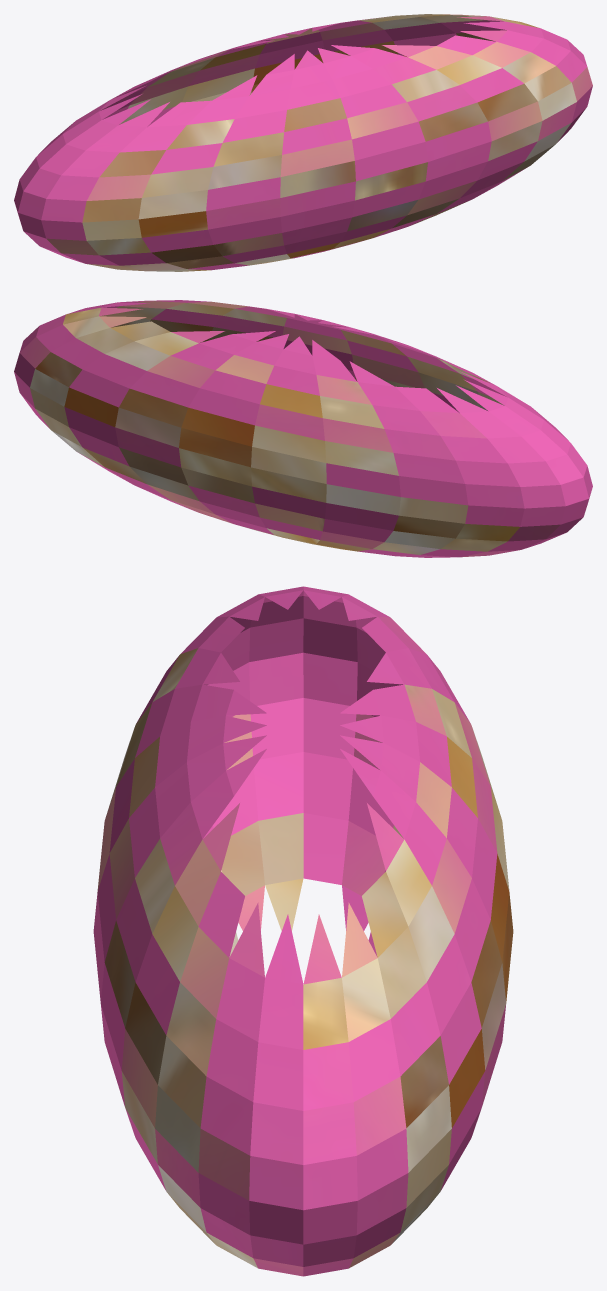
Rendered from clue_shell.glb.
3 views of the same model, one above another, from view 1: azimuth 30°, elevation 25°; view 2: azimuth 150°, elevation 25°; view 3: azimuth 270°, elevation 25° (orthographic). The views are drawn at different scales.
Visible parts, largest first — view 1: clue_shell; view 2: clue_shell; view 3: clue_shell.
Boxes of the visible parts, x1,y1,x2,y2 form: clue_shell: (14,14,592,271); clue_shell: (14,300,592,557); clue_shell: (93,586,513,1276).
Bounding box in the file's own units: 1.39 × 0.4664 × 0.441.
Materials: 1 (1 with a texture image).
